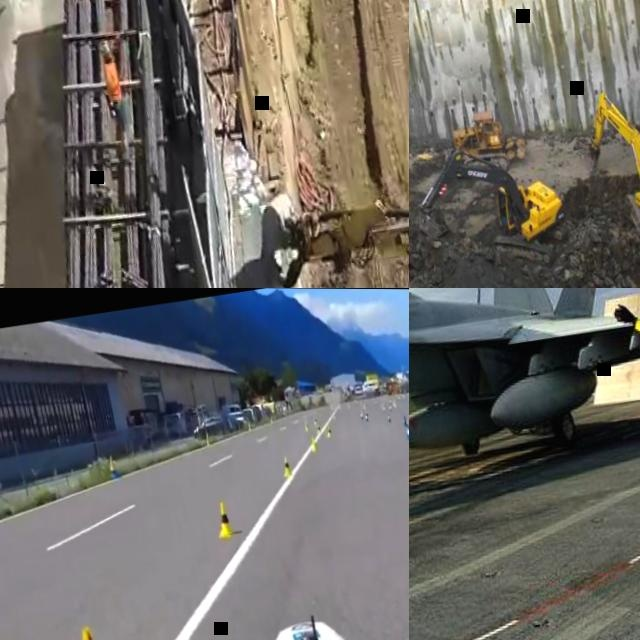Hardhat: (100, 42, 111, 56)
Person: (610, 288, 640, 548), (98, 38, 133, 144)
Safety Cone: (64, 619, 120, 640), (212, 495, 235, 539), (279, 452, 294, 479), (107, 456, 118, 479), (308, 432, 318, 454), (204, 429, 211, 446), (325, 423, 332, 439), (403, 423, 409, 439), (303, 418, 309, 432), (246, 420, 252, 433), (316, 423, 321, 436), (359, 407, 364, 419), (364, 410, 369, 422), (387, 412, 392, 423), (270, 416, 274, 424)
Safety Vest: (104, 58, 122, 98)
machinery: (409, 133, 574, 282), (248, 140, 409, 288), (577, 76, 640, 254), (437, 108, 510, 177)
vehicle: (0, 0, 239, 288)
